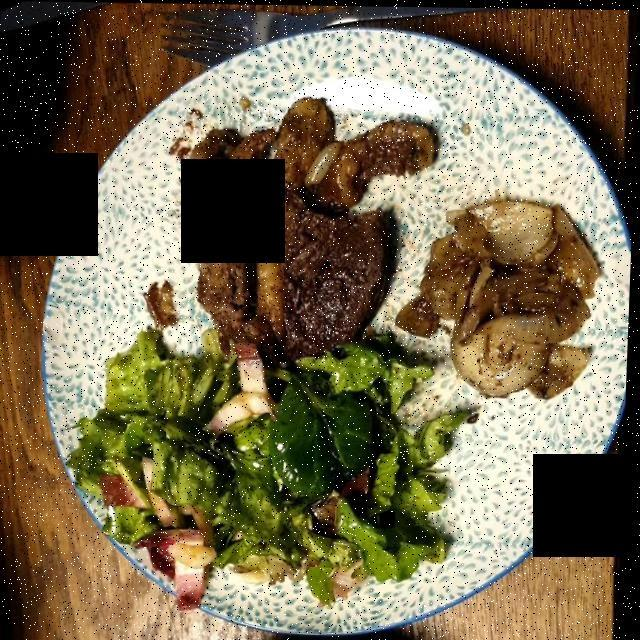onion: (405, 196, 596, 398)
salad: (97, 301, 464, 588)
